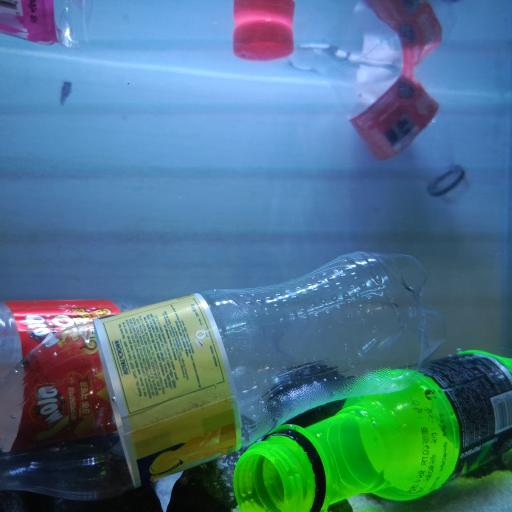bottle_cap: (232, 18, 294, 62)
plastic_bottle: (0, 248, 448, 502), (233, 348, 512, 512), (296, 44, 470, 206), (0, 298, 133, 454), (0, 0, 96, 50)
